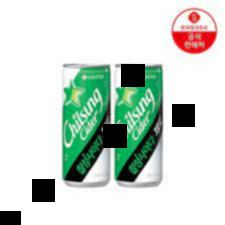chilsungcider_zero: (113, 60, 166, 191), (61, 62, 111, 190)
